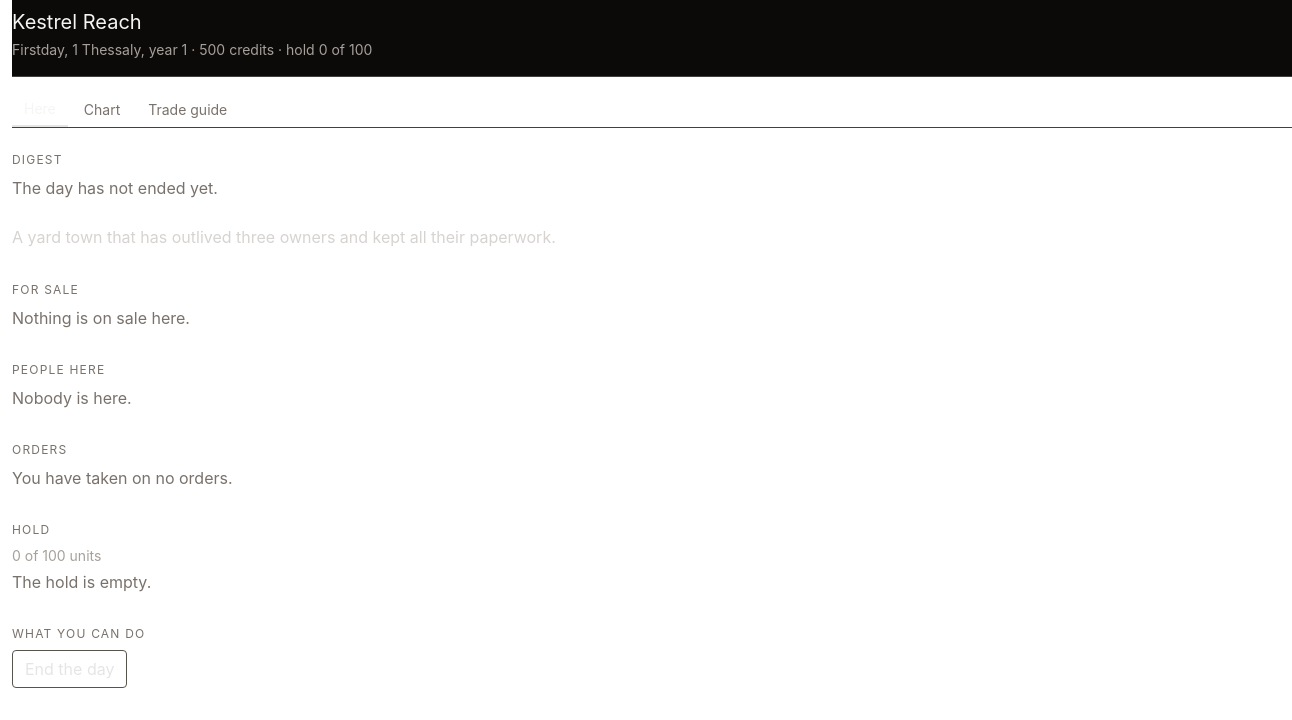
Test case: the chart on the page › lists the places on the chart, and says so when no lane is charted
This screenshot has width=1292, height=720.
Click the tab "Chart" at (102, 110), box [72,93,132,127]
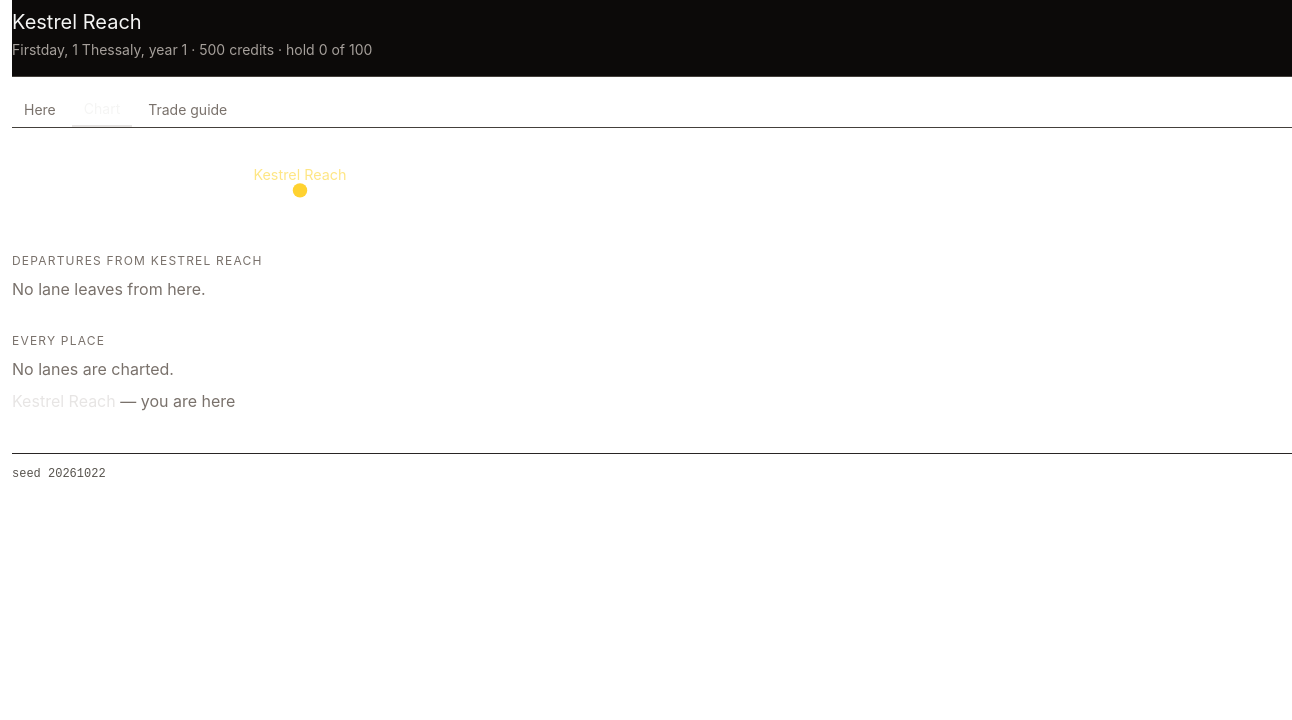
Check: the list named "Locations" shows "Kestrel Reach", box [12,391,116,411]
Check: the text "No lanes are charted." is shown, box [12,359,174,379]
